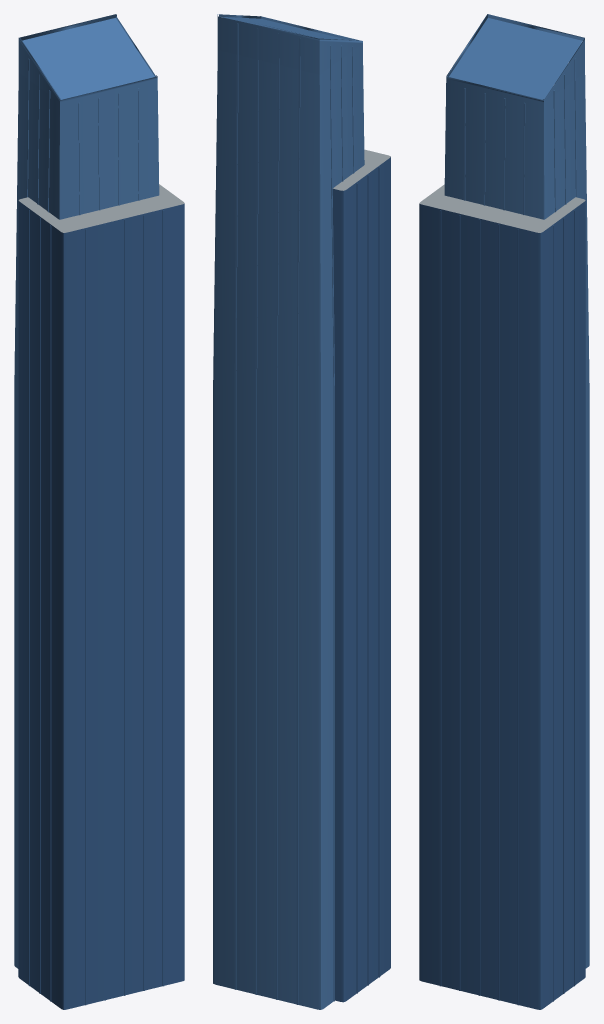
Rendered from nanning-guangxi-china-resources-tower.glb.
The picture shows the model from 3 angles, left to right: view 1: azimuth 30°, elevation 25°; view 2: azimuth 150°, elevation 25°; view 3: azimuth 330°, elevation 25°; orthographic projection. The views are drawn at different scales.
Parts seen in each view (by area): view 1: Guangxi China Resources Tower; view 2: Guangxi China Resources Tower; view 3: Guangxi China Resources Tower.
Boxes of the visible parts, x1=… form: Guangxi China Resources Tower: x1=14, y1=14, x2=184, y2=1009; Guangxi China Resources Tower: x1=213, y1=14, x2=390, y2=1009; Guangxi China Resources Tower: x1=419, y1=14, x2=589, y2=1009.
Size of the model in its own units: 56.35 by 404 by 47.
